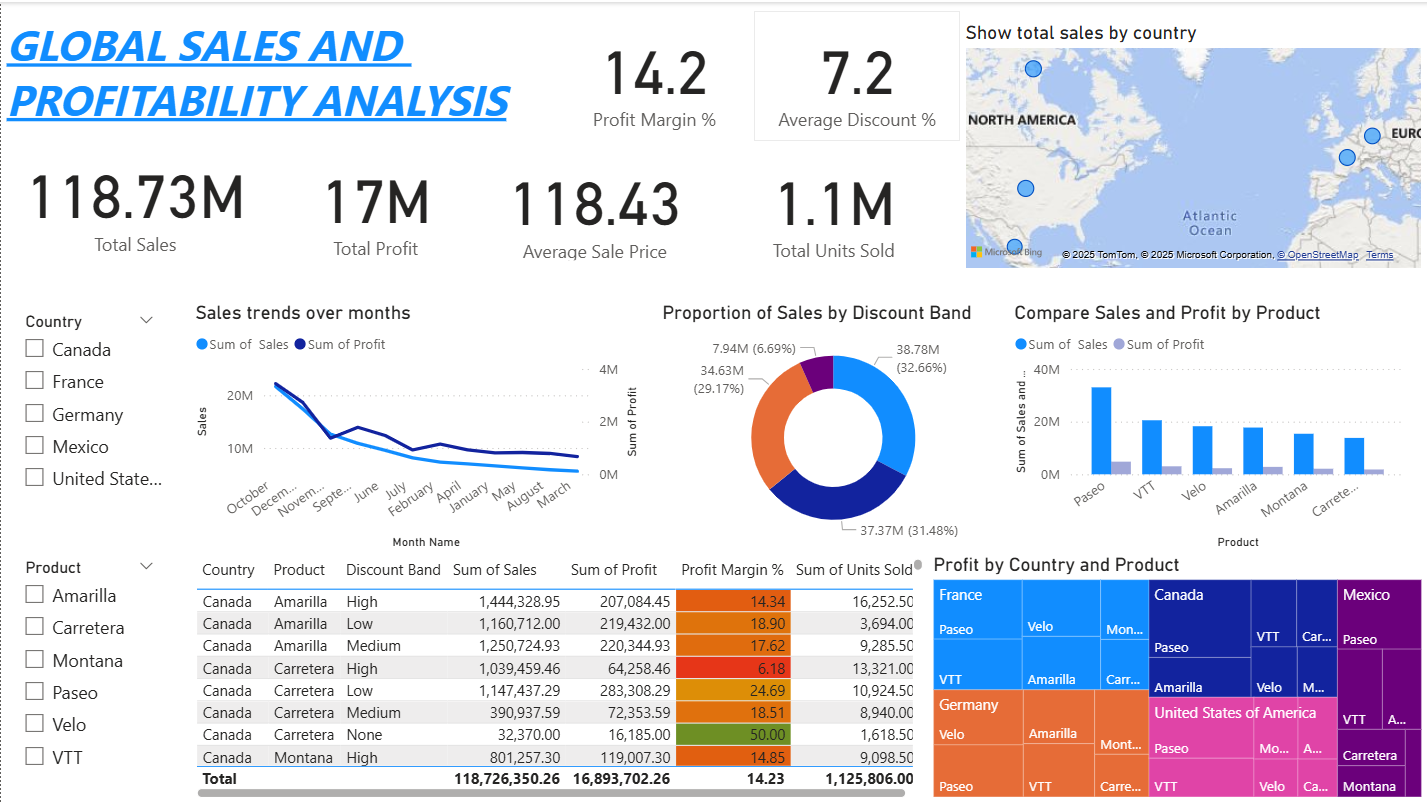

Layout of this report page (visuals, bound fields, positions):
{"tool":"powerbi","page":{"name":"Page 1","canvas":[1280,720],"ordinal":0},"visuals":[{"type":"clusteredColumnChart","title":"Compare Sales and Profit by Product","fields":{"Category":["Sheet1.Product"],"Y":["Sum(Sheet1. Sales)","Sum(Sheet1.Profit)"]},"box":[905,268.2,360.7,226.6],"z":0},{"type":"lineChart","title":"Sales trends over months","fields":{"Category":["Sheet1.Month Name"],"Y":["Sum(Sheet1. Sales)"],"Y2":["Sum(Sheet1.Profit)"]},"box":[169.3,268.2,407.6,226.6],"z":1000},{"type":"donutChart","title":"Proportion of Sales by Discount Band","fields":{"Category":["Sheet1.Discount Band"],"Y":["Sum(Sheet1. Sales)"]},"box":[588.6,268.2,316.4,226.6],"z":2000},{"type":"treemap","title":"Profit by Country and Product","fields":{"Group":["Sheet1.Country"],"Details":["Sheet1.Product"],"Values":["Sum(Sheet1.Profit)"]},"box":[832.1,494.8,447.9,224],"z":3000},{"type":"card","fields":{"Values":["Sheet1.Total Sales"]},"box":[0,125,240.9,108.1],"z":4000},{"type":"card","fields":{"Values":["Sheet1.Total Profit"]},"box":[240.9,130.2,191.4,105.5],"z":5000},{"type":"card","fields":{"Values":["Sheet1.Total Units Sold"]},"box":[635.4,134.1,224,101.6],"z":7000},{"type":"card","fields":{"Values":["Sheet1.Average Discount %"]},"box":[675.8,7.8,184.9,117.2],"z":8000},{"type":"card","fields":{"Values":["Sheet1.Profit Margin %"]},"box":[497.4,7.8,178.4,117.2],"z":9000},{"type":"card","fields":{"Values":["Sheet1.Average Sale Price"]},"box":[432.3,132.8,200.5,104.2],"z":10000},{"type":"map","title":"Show total sales  by country","fields":{"Category":["Sheet1.Country"],"Size":["Sum(Sheet1. Sales)"]},"box":[860.7,16.9,419.3,226.6],"z":11000},{"type":"slicer","fields":{"Values":["Sheet1.Country"]},"box":[9.1,273.4,140.6,207],"z":12000},{"type":"slicer","fields":{"Values":["Sheet1.Product"]},"box":[9.1,494.8,140.6,225.3],"z":13000},{"type":"tableEx","fields":{"Values":["Sheet1.Country","Sheet1.Product","Sheet1.Discount Band","Sum(Sheet1. Sales)","Sum(Sheet1.Profit)","Sheet1.Profit Margin %","Sum(Sheet1.Units Sold)"]},"box":[169.3,494.8,662.8,225.3],"z":14000},{"type":"textbox","box":[0,7.8,497.4,117.2],"z":15000}]}

Visuals, with their boxes in screenshot pixels (x1, y1, x2, y2), scaled from the page's 1280x720 canvas onto the 1427x802 screenshot:
"Compare Sales and Profit by Product" clusteredColumnChart: detection(1009, 299, 1411, 551)
"Sales trends over months" lineChart: detection(189, 299, 643, 551)
"Proportion of Sales by Discount Band" donutChart: detection(656, 299, 1009, 551)
"Profit by Country and Product" treemap: detection(928, 551, 1426, 801)
card - Sheet1.Total Sales: detection(0, 139, 269, 260)
card - Sheet1.Total Profit: detection(269, 145, 482, 263)
card - Sheet1.Total Units Sold: detection(708, 149, 958, 263)
card - Sheet1.Average Discount %: detection(753, 9, 960, 139)
card - Sheet1.Profit Margin %: detection(555, 9, 753, 139)
card - Sheet1.Average Sale Price: detection(482, 148, 705, 264)
"Show total sales  by country" map: detection(960, 19, 1426, 271)
slicer - Sheet1.Country: detection(10, 305, 167, 535)
slicer - Sheet1.Product: detection(10, 551, 167, 801)
tableEx - Sheet1.Country x Sheet1.Product: detection(189, 551, 928, 801)
textbox: detection(0, 9, 555, 139)
